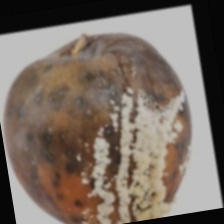apple: (30, 47, 220, 216)
